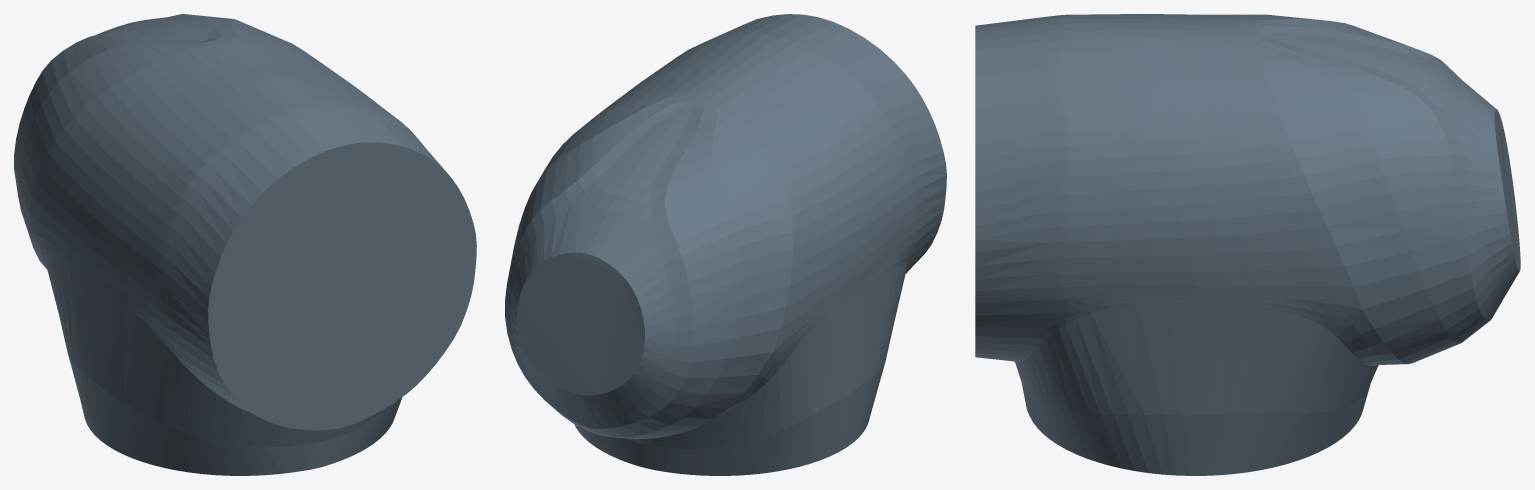
3 renders of one model, left to right at view 1: azimuth 30°, elevation 25°; view 2: azimuth 150°, elevation 25°; view 3: azimuth 270°, elevation 25°, orthographic. The views are drawn at different scales.
Visible parts, largest first — view 1: MF0617_4_1; view 2: MF0617_4_1; view 3: MF0617_4_1.
Part boxes in pixels (bbox=[...]): MF0617_4_1: bbox=[14, 14, 476, 475]; MF0617_4_1: bbox=[505, 14, 946, 475]; MF0617_4_1: bbox=[975, 14, 1520, 475].
Bounding box in the file's own units: 109 × 164 × 124.
